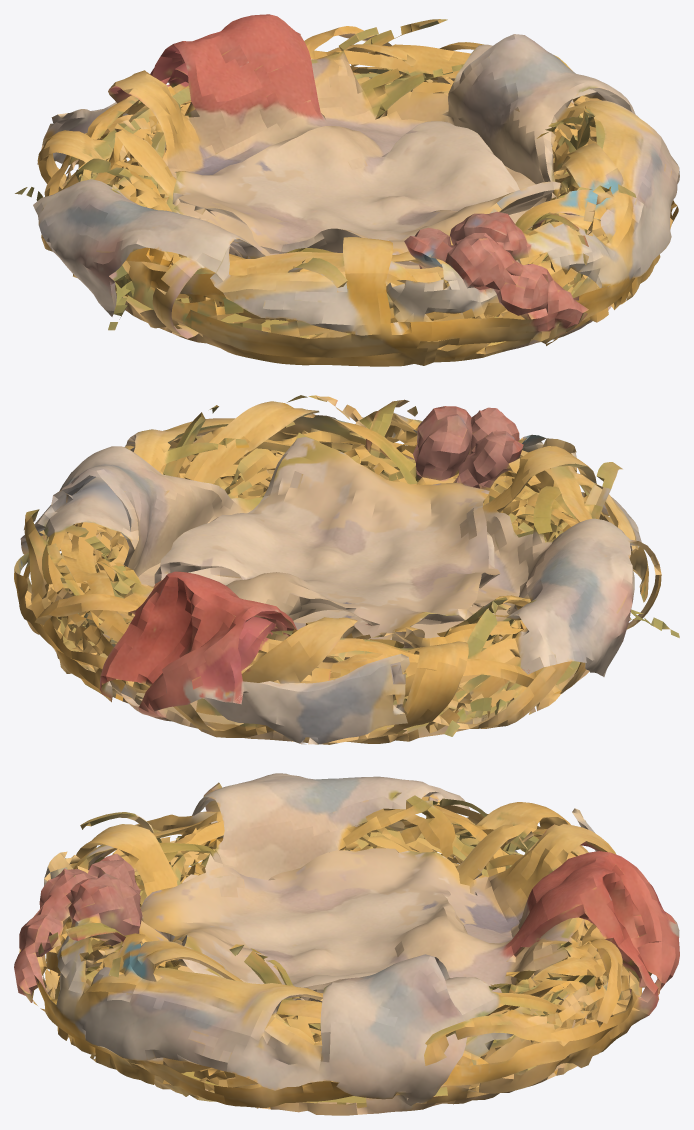
Rendered from Meshy_AI_Watercolor_Bird_Nest_1122025104_texture.glb.
The picture shows the model from 3 angles, top to bottom: view 1: azimuth 30°, elevation 25°; view 2: azimuth 150°, elevation 25°; view 3: azimuth 270°, elevation 25°; orthographic projection.
Visible parts, largest first — view 1: output; view 2: output; view 3: output.
Boxes of the visible parts, x1,y1,x2,y2 form: output: [15, 14, 679, 366]; output: [14, 395, 679, 744]; output: [14, 773, 679, 1115].
Size of the model in its own units: 1.87 by 0.4202 by 1.89.
1 material, 1 textured.
